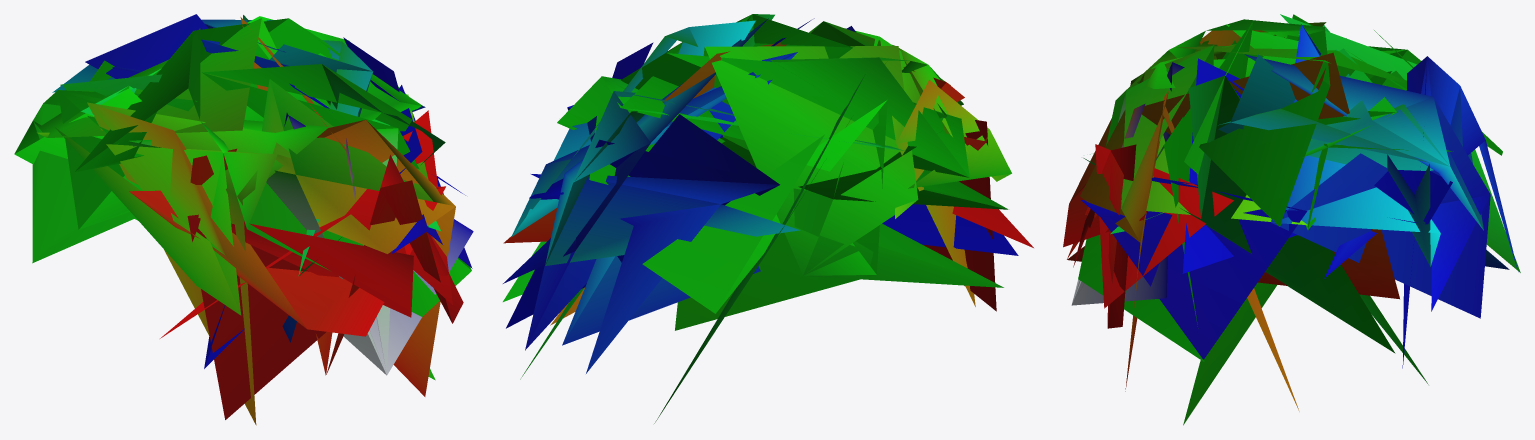
The model's file is zeometry-fragments-ruins-shard-cluster_v2.glb.
The picture shows the model from 3 angles, left to right: view 1: azimuth 30°, elevation 25°; view 2: azimuth 150°, elevation 25°; view 3: azimuth 270°, elevation 25°; orthographic projection. The views are drawn at different scales.
Visible parts, largest first — view 1: Shard Cluster_v2; view 2: Shard Cluster_v2; view 3: Shard Cluster_v2.
Part boxes in pixels (x1,y1,x2,y2): Shard Cluster_v2: (14,14,473,425); Shard Cluster_v2: (503,14,1033,423); Shard Cluster_v2: (1063,14,1520,425).
Size of the model in its own units: 0.4932 by 0.388 by 0.5.
